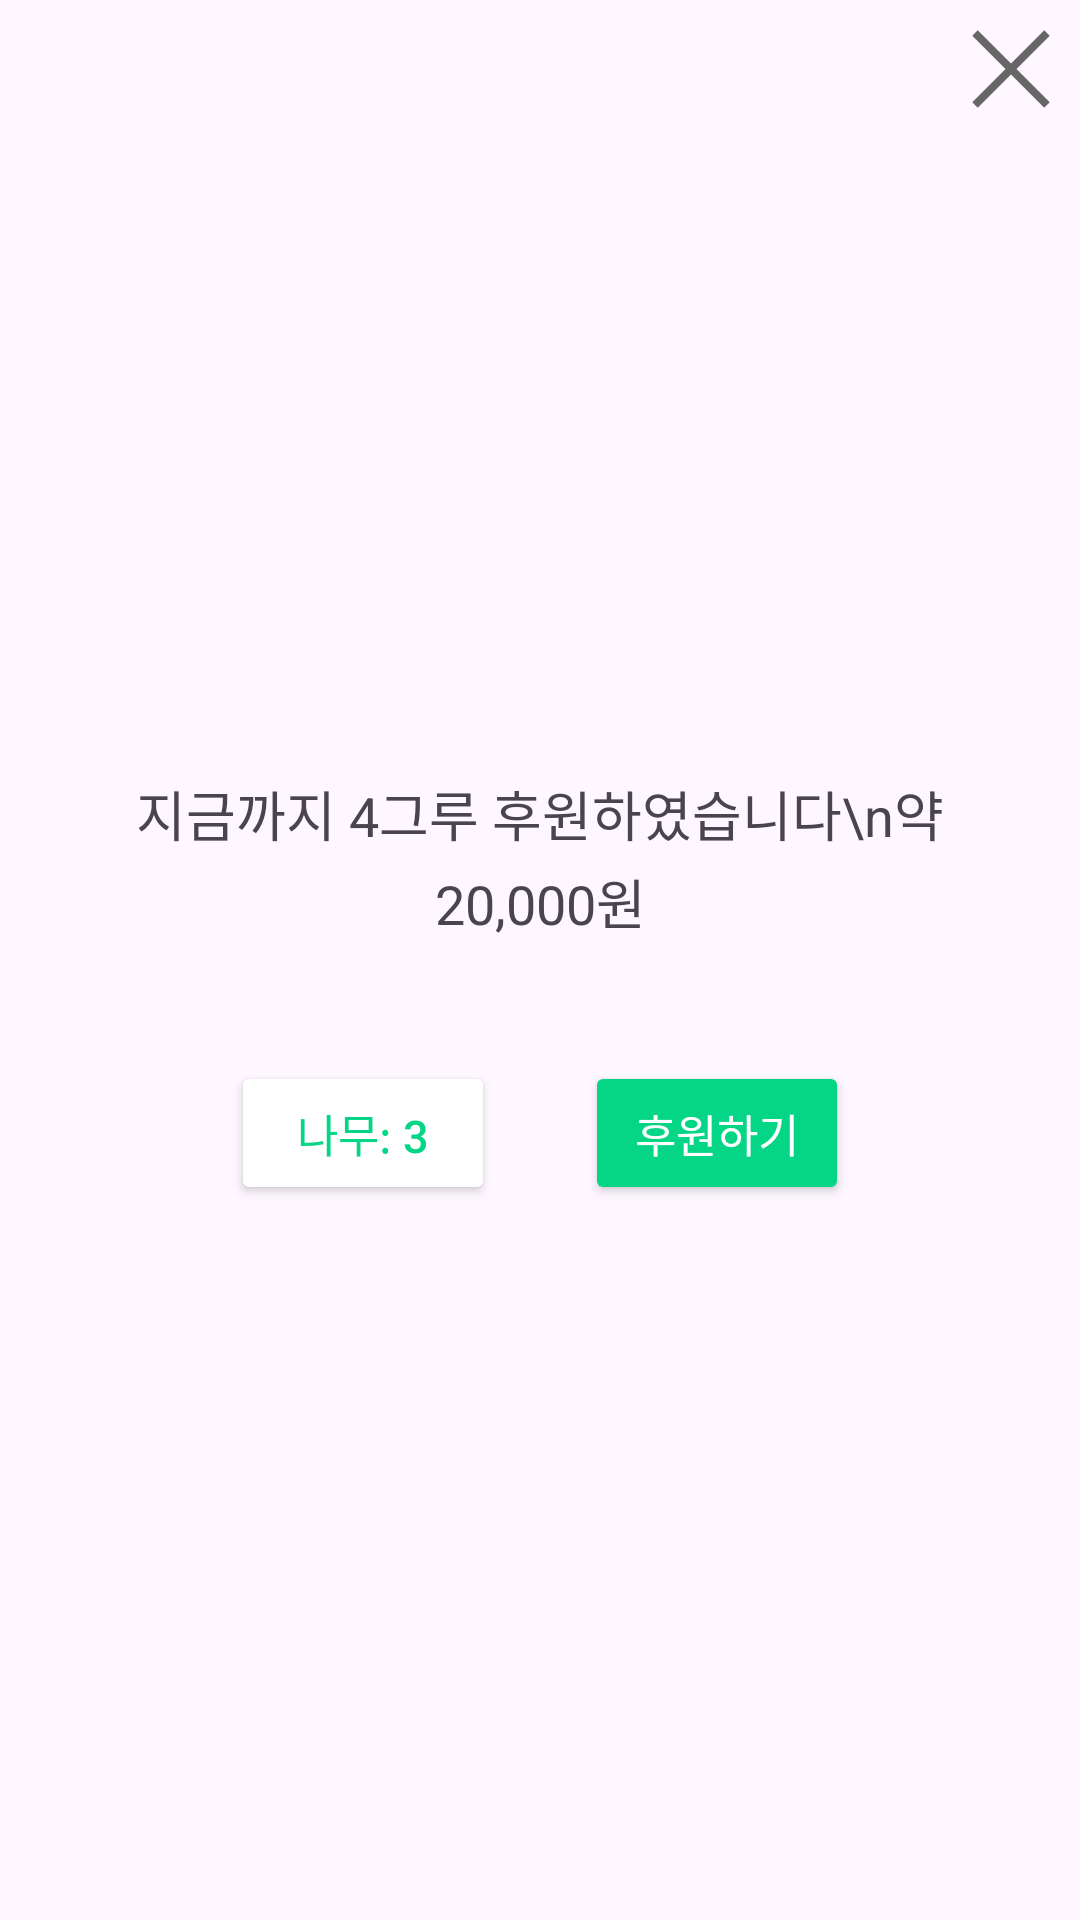

Named icons in this screenshot (1080 × 1920) and their centers, [x,y]:
close: [1011,69]
